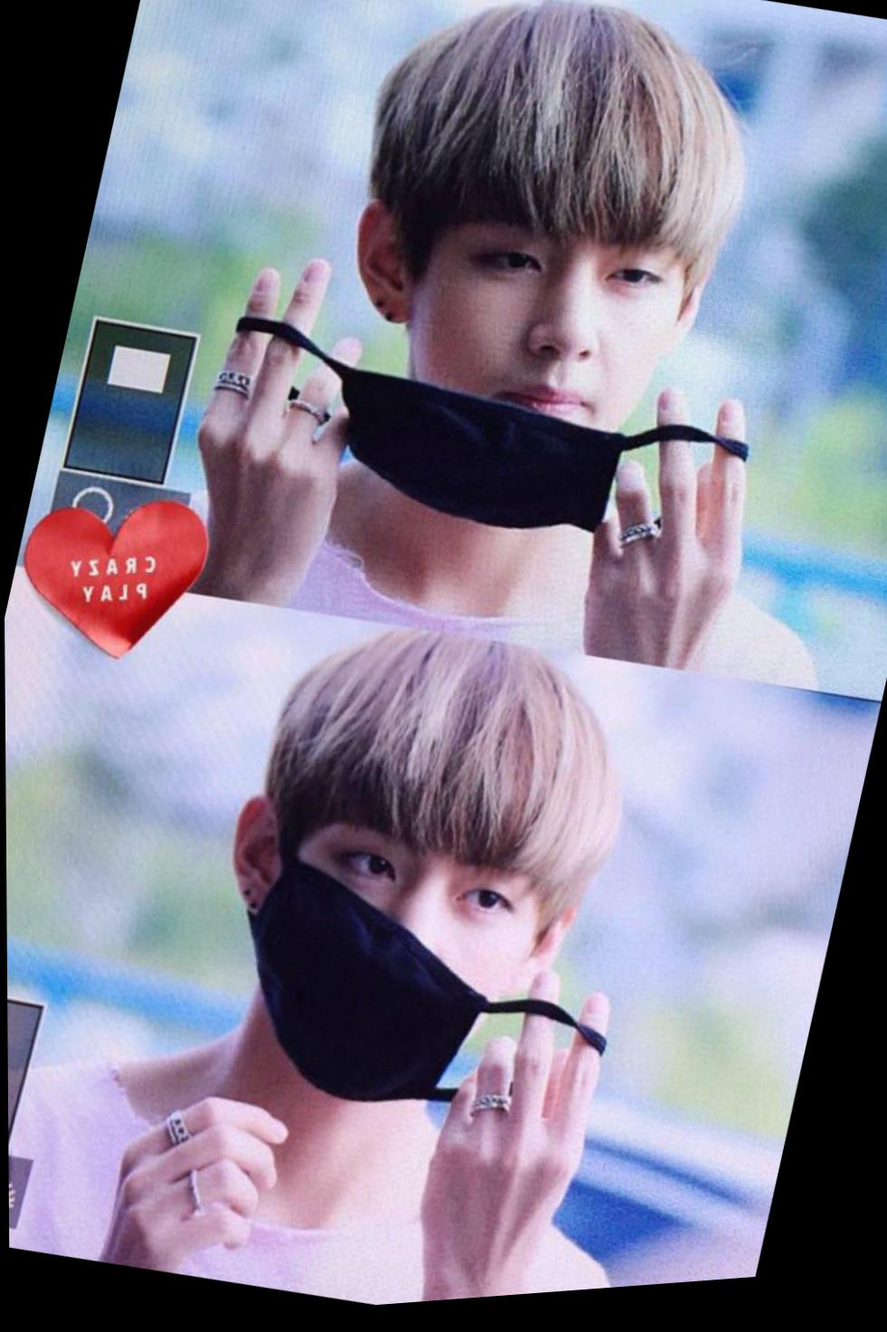NONE: (363, 198, 707, 546)
WRONG: (234, 774, 567, 1117)
